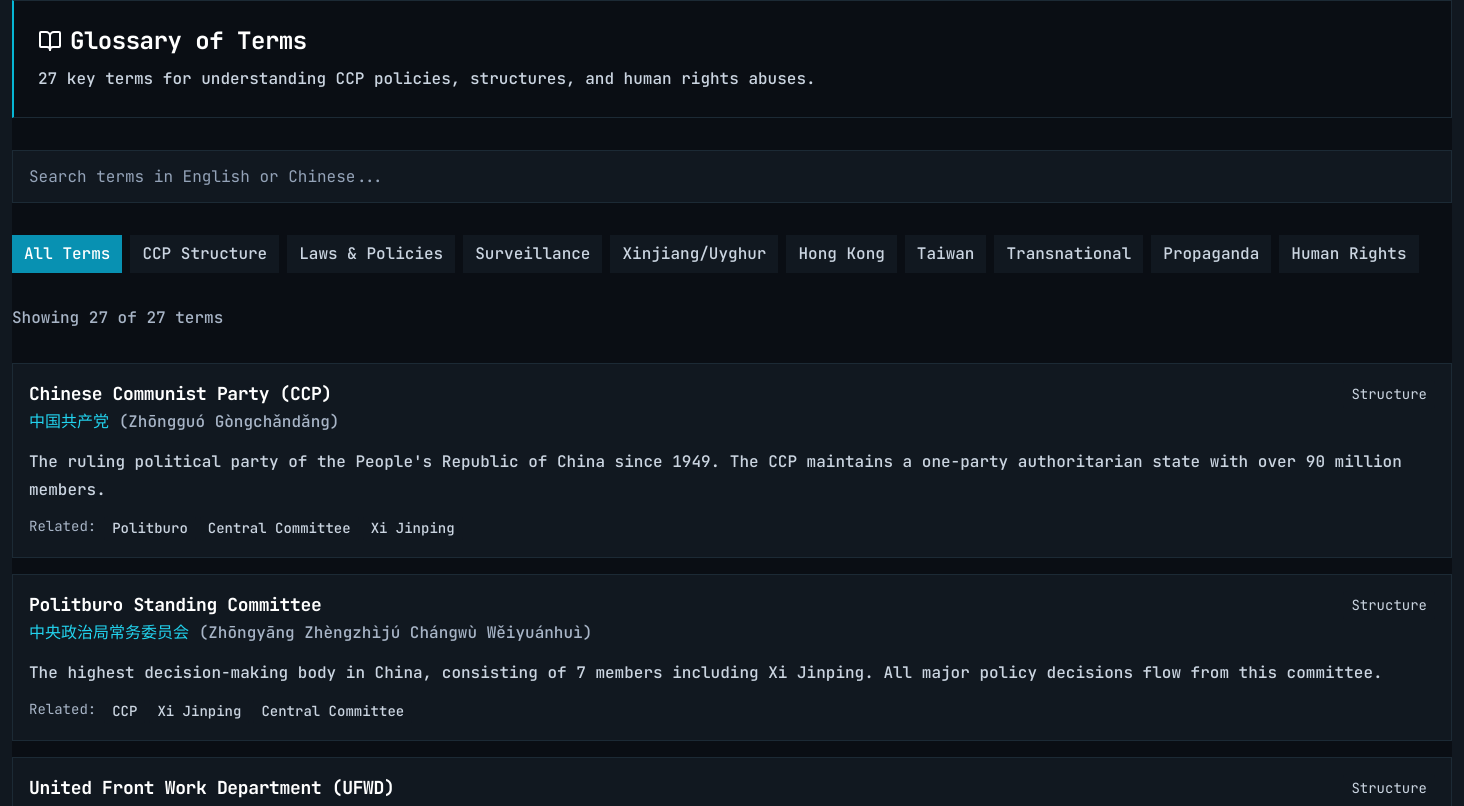
Test: GlossaryTerms › filters terms by search query
In the field with placeholder "Search terms in English or Chinese...": [732, 177] box [12,150,1452,203], type "NSL"
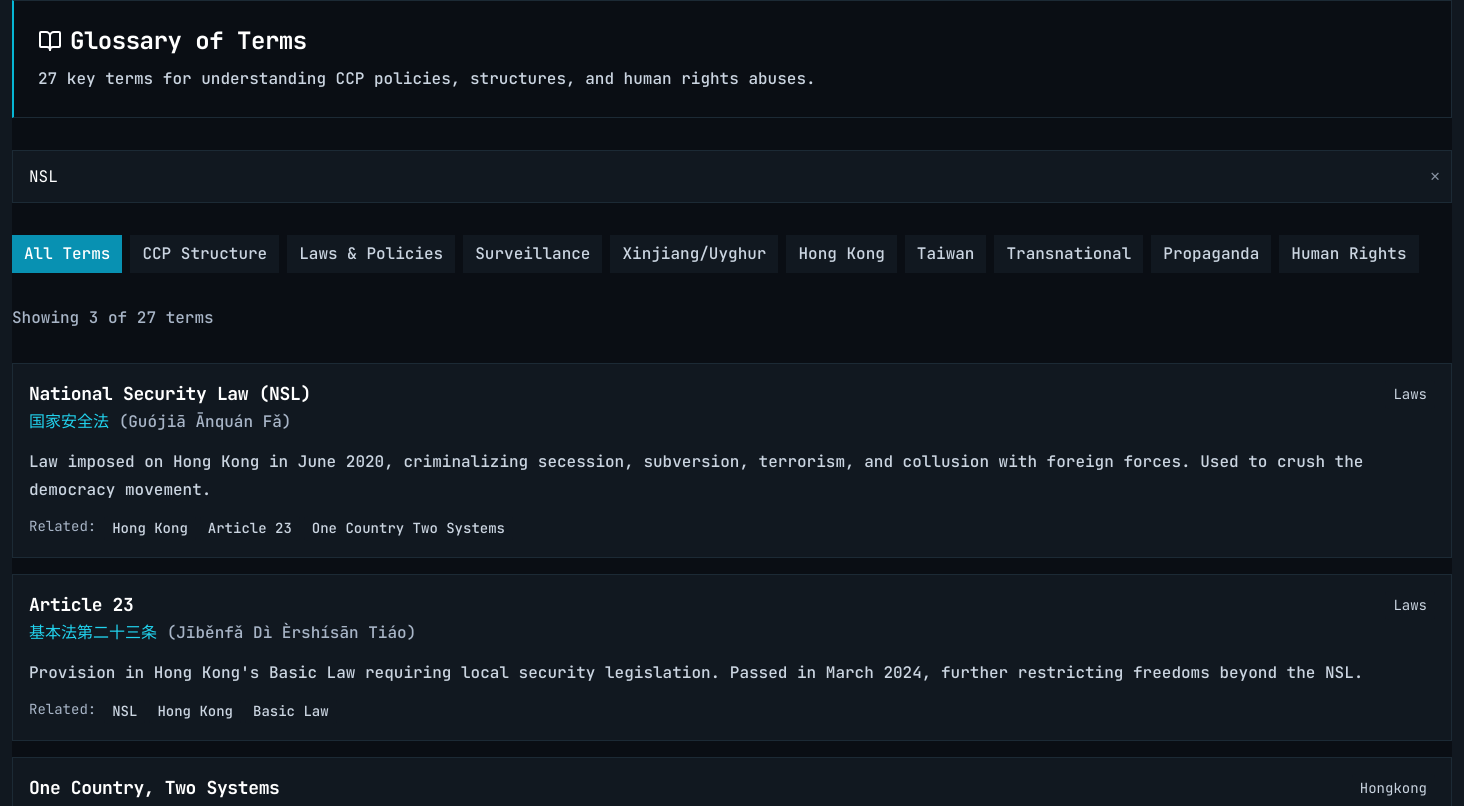
Now the heading "National Security Law (NSL)" is shown, box [29,380,311,408]
